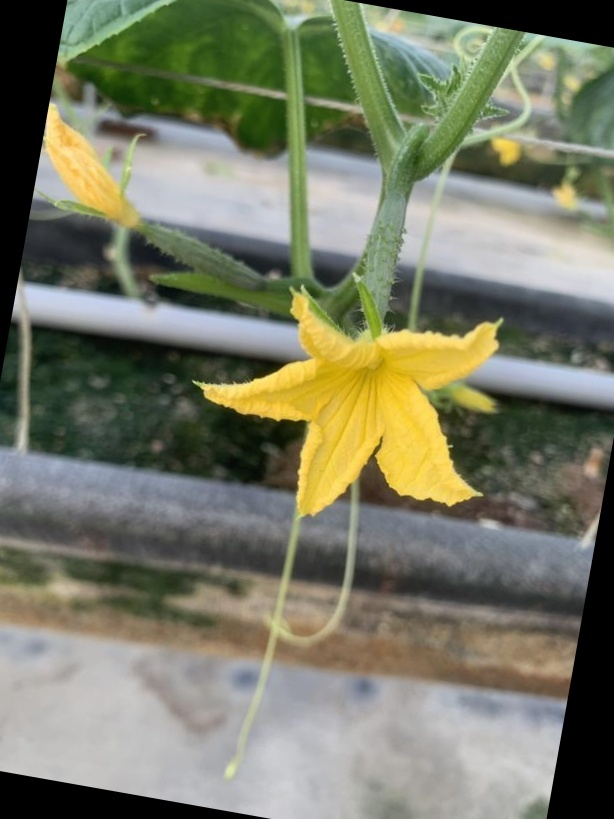bear: (49, 116, 292, 303)
flowering: (198, 274, 512, 523)
